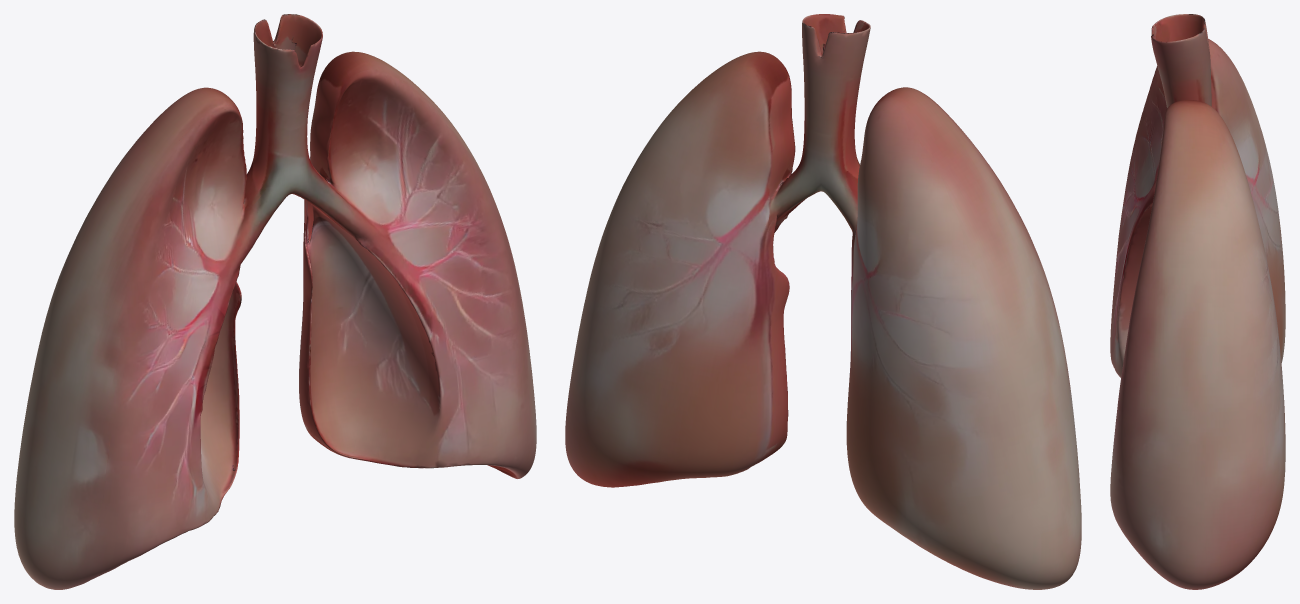
The model's file is vet_v2_organ_dog_lungs.glb.
3 views of the same model, side by side, from view 1: azimuth 30°, elevation 25°; view 2: azimuth 150°, elevation 25°; view 3: azimuth 270°, elevation 25° (orthographic). The views are drawn at different scales.
Parts seen in each view (by area): view 1: model; view 2: model; view 3: model.
Part boxes in pixels (<box>): model: <box>14,14,536,589</box>; model: <box>565,14,1081,589</box>; model: <box>1110,14,1285,589</box>.
Size of the model in its own units: 1.9 by 1.84 by 0.6315.
1 material, 1 textured.
